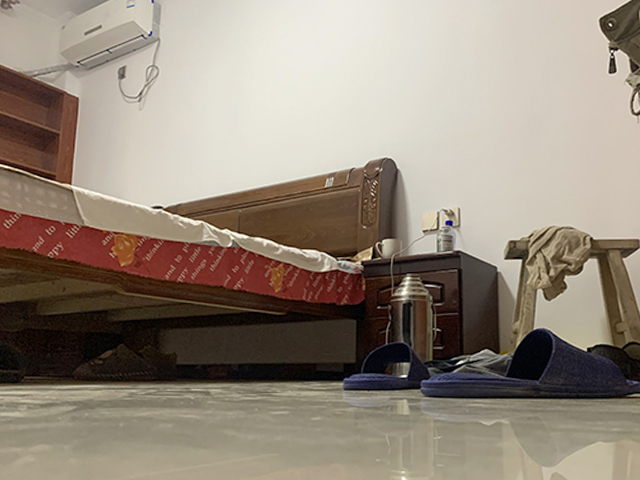bed: (1, 157, 398, 376)
cabinet: (361, 249, 500, 368)
slippers: (421, 326, 640, 398), (344, 339, 429, 390)
